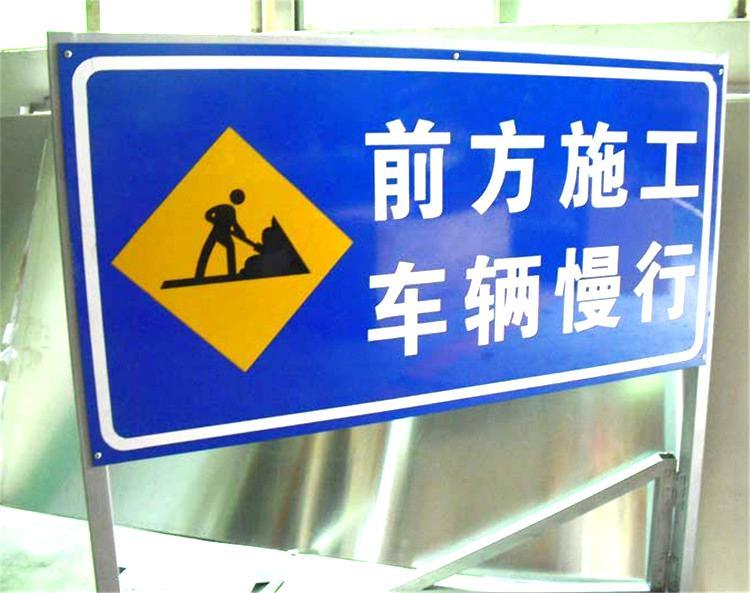sign: (75, 42, 722, 447)
